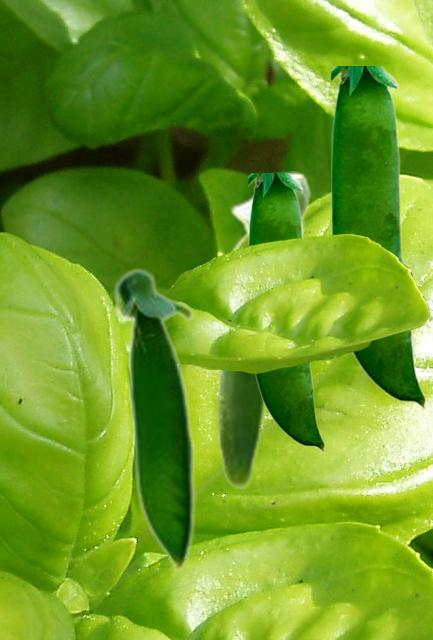pea: (331, 66, 425, 409), (216, 171, 311, 489), (112, 266, 195, 577), (248, 173, 324, 452)
